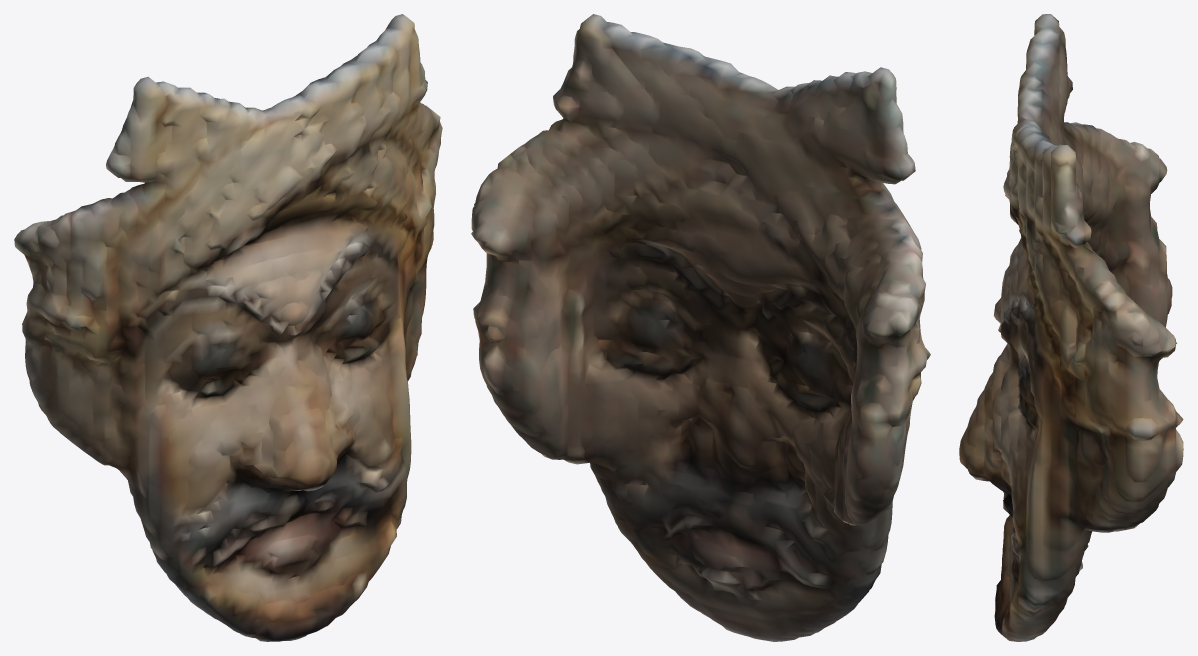
File: nonchi-akka.glb
3 renders of one model, left to right at view 1: azimuth 30°, elevation 25°; view 2: azimuth 150°, elevation 25°; view 3: azimuth 270°, elevation 25°, orthographic. The views are drawn at different scales.
Visible parts, largest first — view 1: geometry_0; view 2: geometry_0; view 3: geometry_0.
Boxes of the visible parts, box(x1,y1,x2,y2) form: geometry_0: box(14, 14, 442, 641); geometry_0: box(471, 14, 930, 641); geometry_0: box(959, 14, 1183, 641).
Size of the model in its own units: 0.758 by 1.01 by 0.3681.
